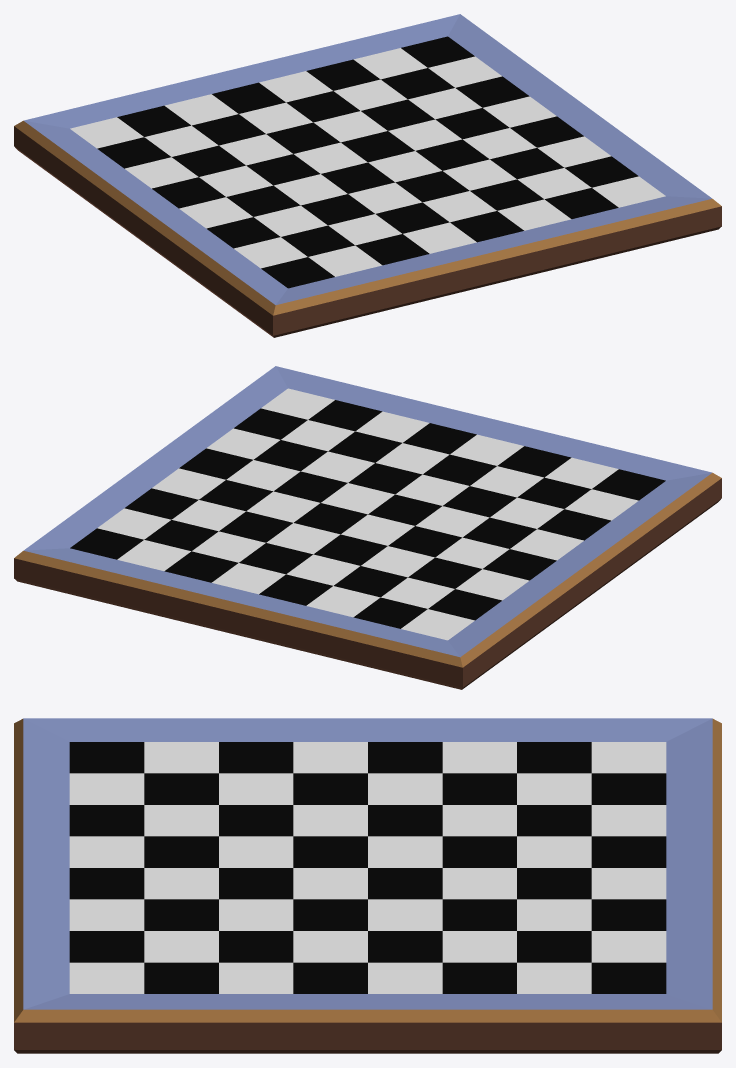
The model's file is Chess Board.fbx.
3 views of the same model, one above another, from view 1: azimuth 30°, elevation 25°; view 2: azimuth 150°, elevation 25°; view 3: azimuth 270°, elevation 25° (orthographic). The views are drawn at different scales.
Parts seen in each view (by area): view 1: Chess Board; view 2: Chess Board; view 3: Chess Board.
Boxes of the visible parts, x1=… form: Chess Board: x1=14, y1=14, x2=721, y2=337; Chess Board: x1=14, y1=366, x2=721, y2=689; Chess Board: x1=14, y1=718, x2=721, y2=1053.
Size of the model in its own units: 950 by 61.03 by 950.
